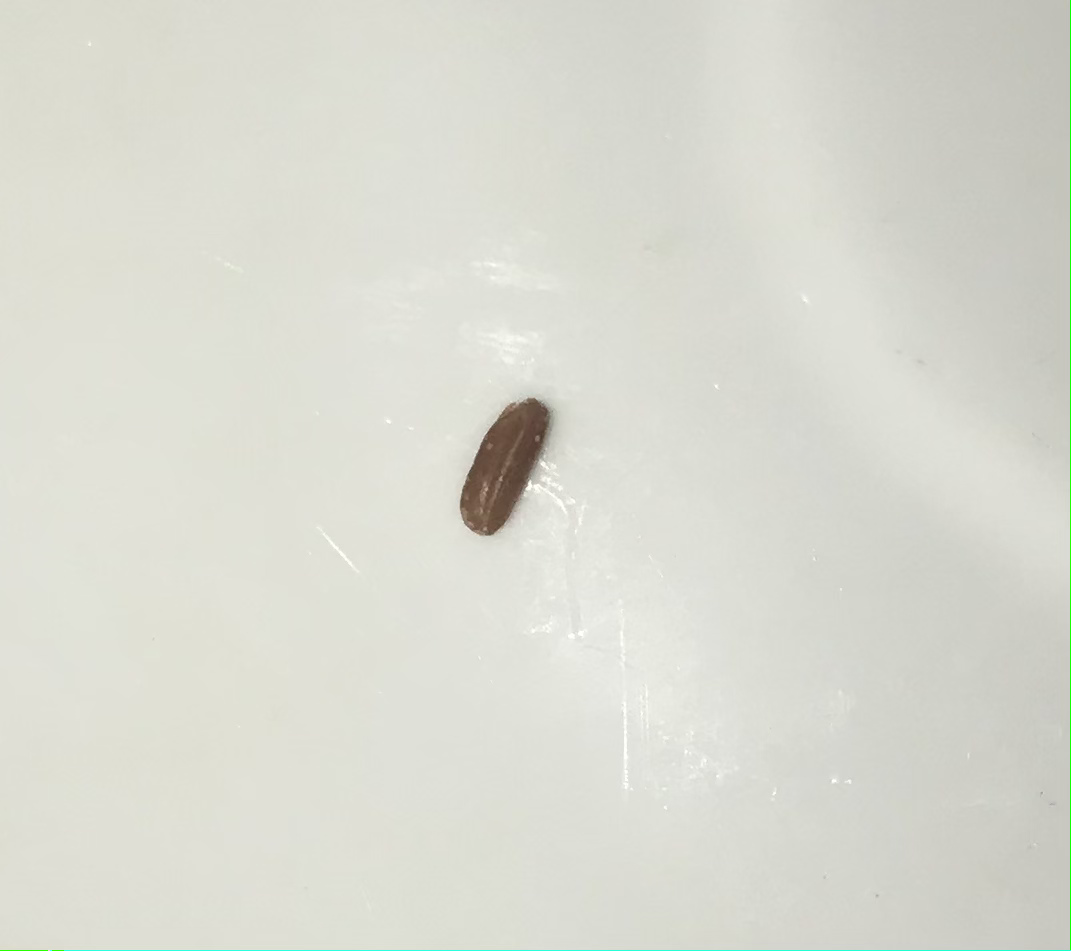Gao Lut Do: (456, 391, 555, 544)
